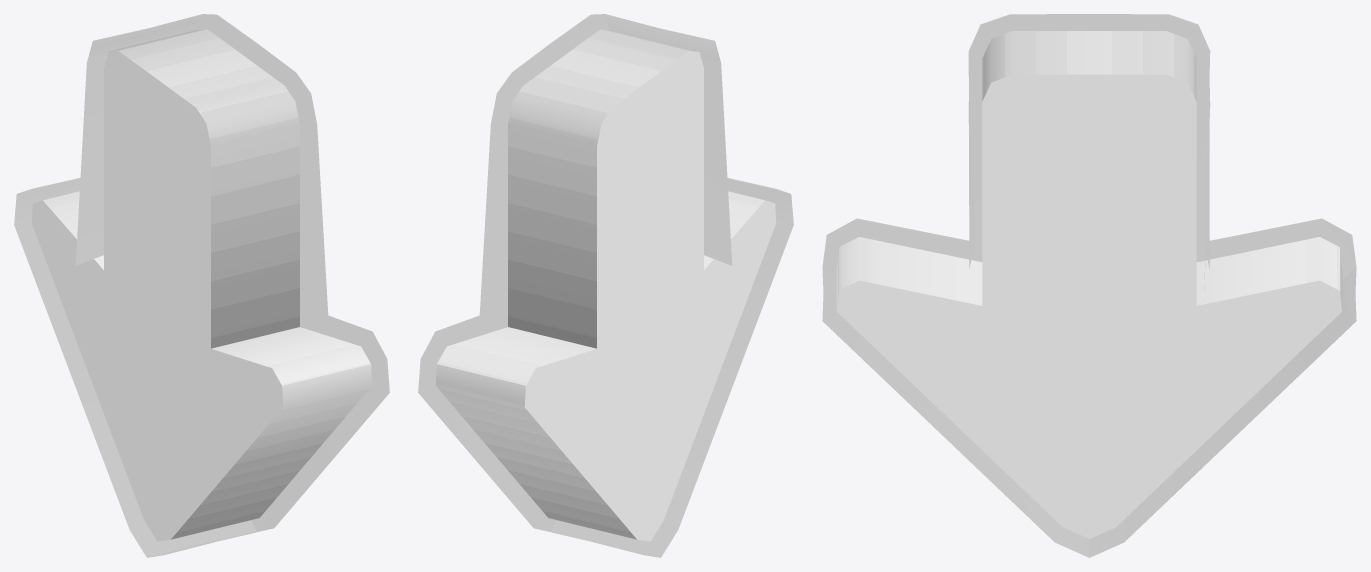
Rendered from todoBot_arrow.glb.
3 views of the same model, side by side, from view 1: azimuth 30°, elevation 25°; view 2: azimuth 150°, elevation 25°; view 3: azimuth 270°, elevation 25° (orthographic).
Parts seen in each view (by area): view 1: pointingDownArrow; view 2: pointingDownArrow; view 3: pointingDownArrow.
Boxes of the visible parts, left/top/right/bottom form: pointingDownArrow: left=14, top=14, right=389, bottom=557; pointingDownArrow: left=418, top=14, right=793, bottom=557; pointingDownArrow: left=822, top=14, right=1356, bottom=557.
Bounding box in the file's own units: 0.3142 × 1.06 × 1.04.
Materials: 2 (1 with a texture image).
